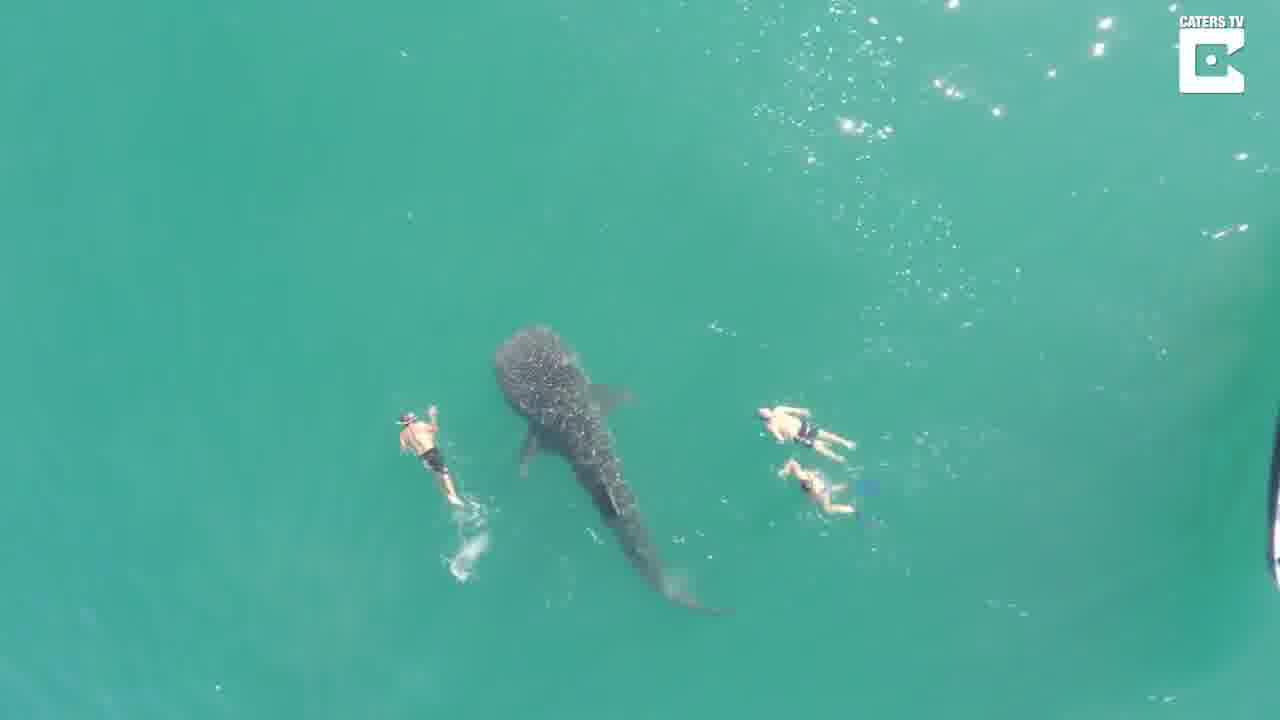human: (395, 398, 464, 510), (749, 402, 860, 467), (772, 451, 865, 520)
